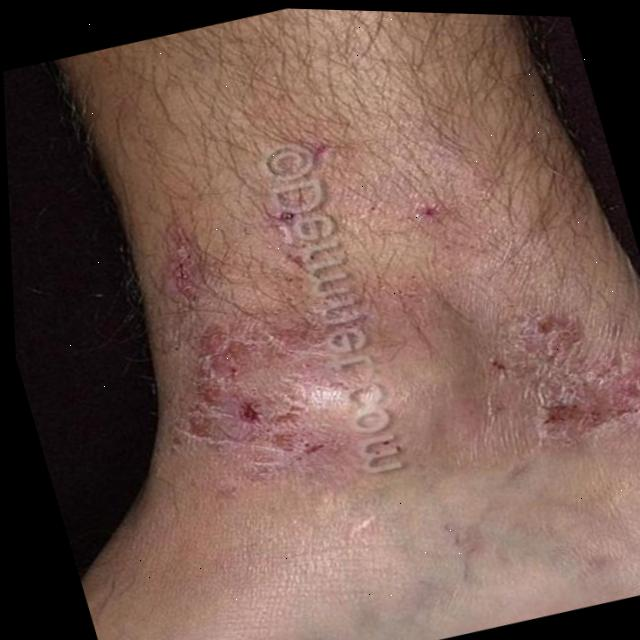Eczema: (94, 72, 640, 538)
